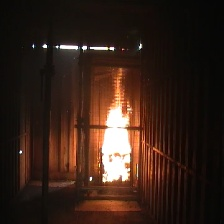fire: (96, 63, 132, 187)
